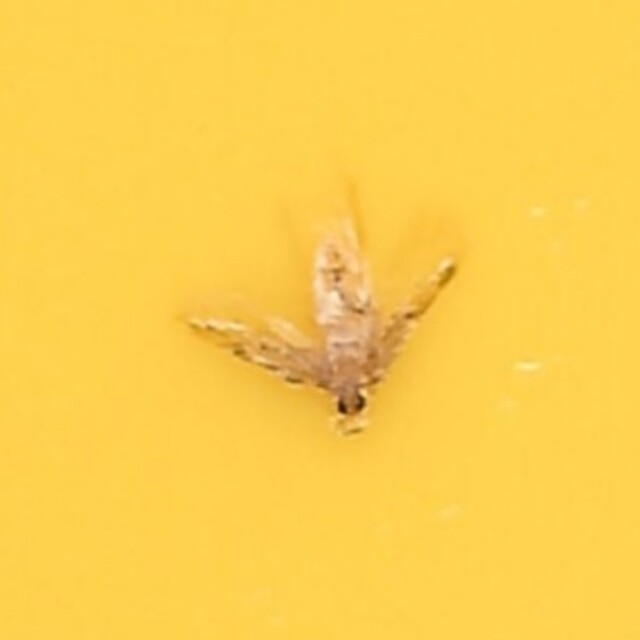Trichoptera: (175, 206, 465, 434)
